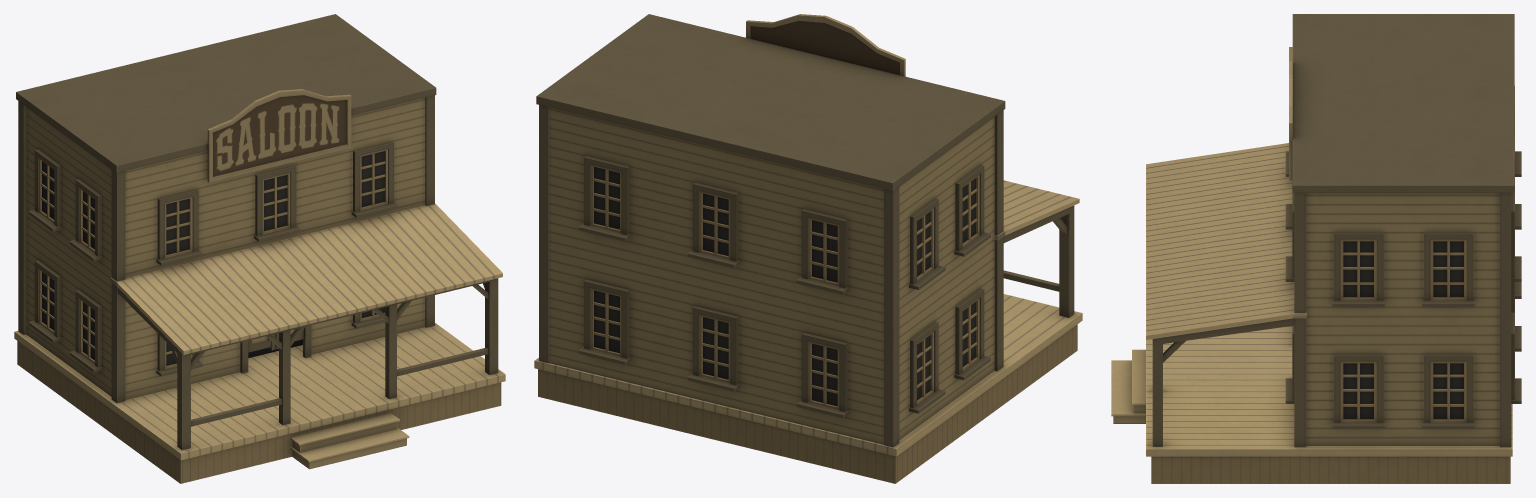
The model's file is saloon.glb.
The picture shows the model from 3 angles, left to right: view 1: azimuth 30°, elevation 25°; view 2: azimuth 150°, elevation 25°; view 3: azimuth 270°, elevation 25°; orthographic projection. The views are drawn at different scales.
Parts seen in each view (by area): view 1: Saloon_Mesh; view 2: Saloon_Mesh; view 3: Saloon_Mesh.
Boxes of the visible parts, bbox=[...] form: Saloon_Mesh: bbox=[14, 14, 505, 483]; Saloon_Mesh: bbox=[534, 14, 1082, 483]; Saloon_Mesh: bbox=[1111, 14, 1521, 483].
Bounding box in the file's own units: 15.66 × 13.9 × 15.32.
Materials: 1 (1 with a texture image).
